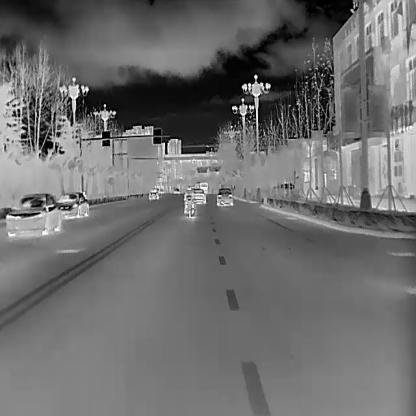bus: (194, 181, 208, 194)
car: (5, 192, 60, 235), (56, 191, 88, 219), (183, 189, 195, 217), (216, 187, 233, 206), (190, 187, 206, 204), (148, 188, 159, 200), (172, 188, 179, 192)
